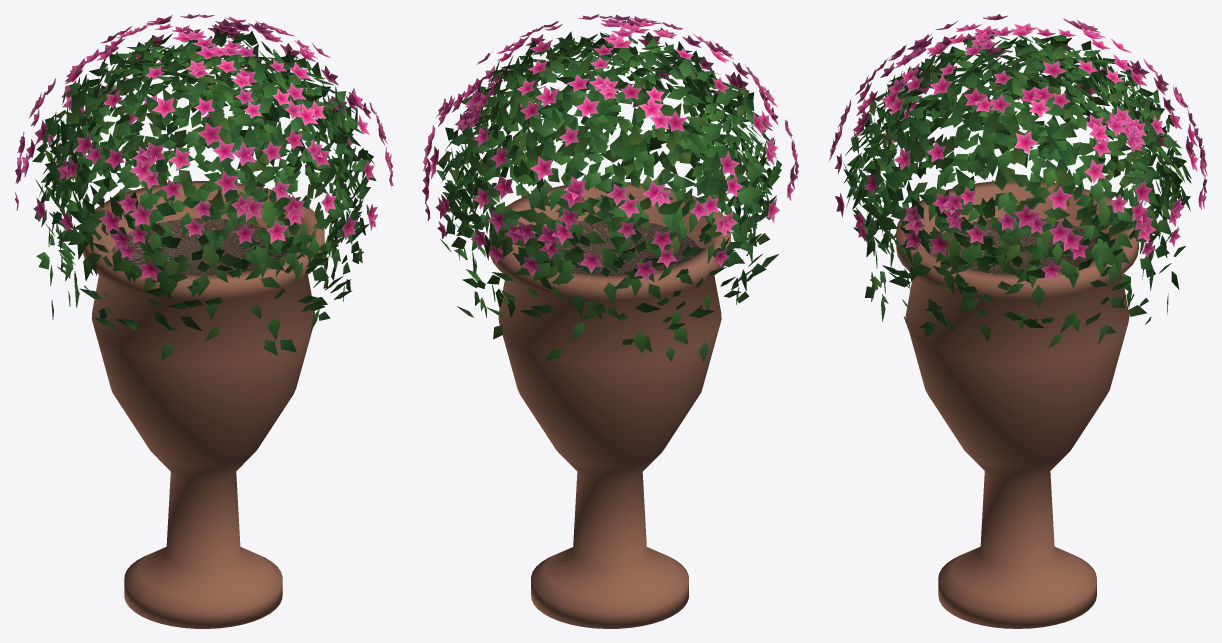
The model's file is SM_Plant_UrnFlowers.fbx.
The picture shows the model from 3 angles, left to right: view 1: azimuth 30°, elevation 25°; view 2: azimuth 150°, elevation 25°; view 3: azimuth 270°, elevation 25°; orthographic projection.
Parts seen in each view (by area): view 1: SM_Plant_UrnFlowers; view 2: SM_Plant_UrnFlowers; view 3: SM_Plant_UrnFlowers.
Part boxes in pixels (<box>): SM_Plant_UrnFlowers: <box>15,14,393,628</box>; SM_Plant_UrnFlowers: <box>422,14,798,628</box>; SM_Plant_UrnFlowers: <box>829,14,1207,628</box>.
Bounding box in the file's own units: 0.8123 × 1.33 × 0.8131.
Materials: 4 (3 with a texture image).
